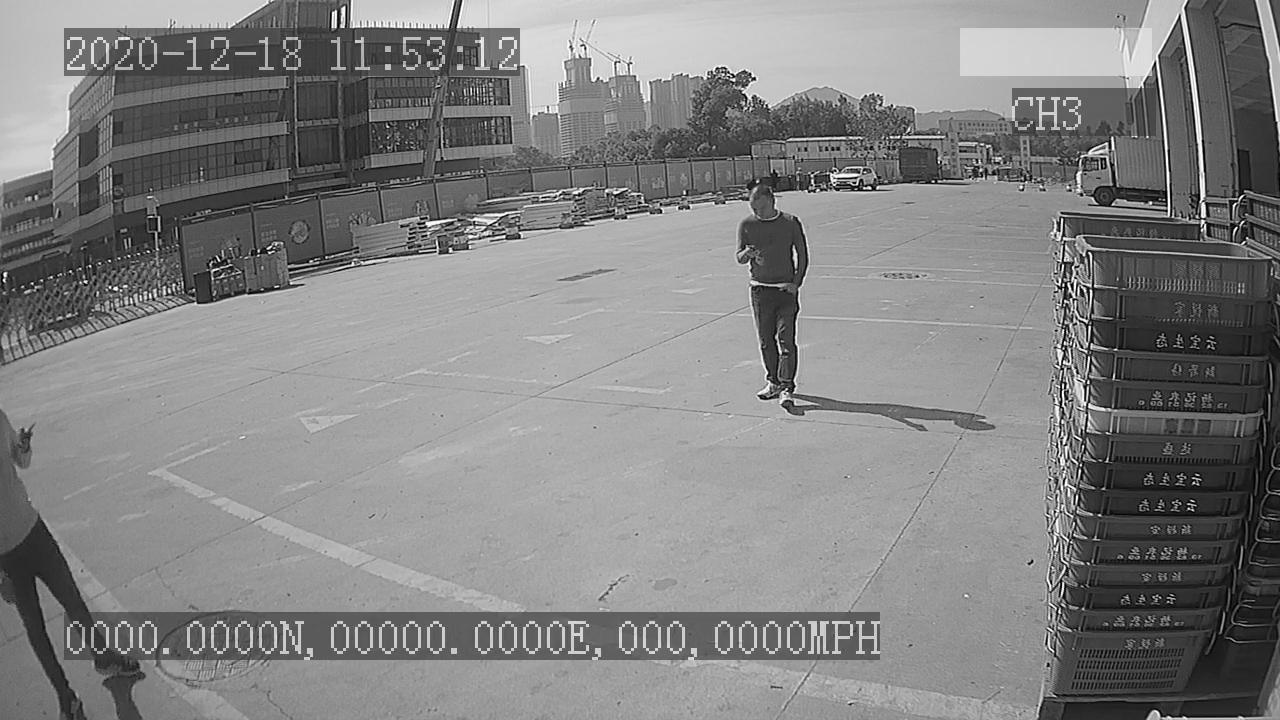person: (731, 183, 813, 415)
